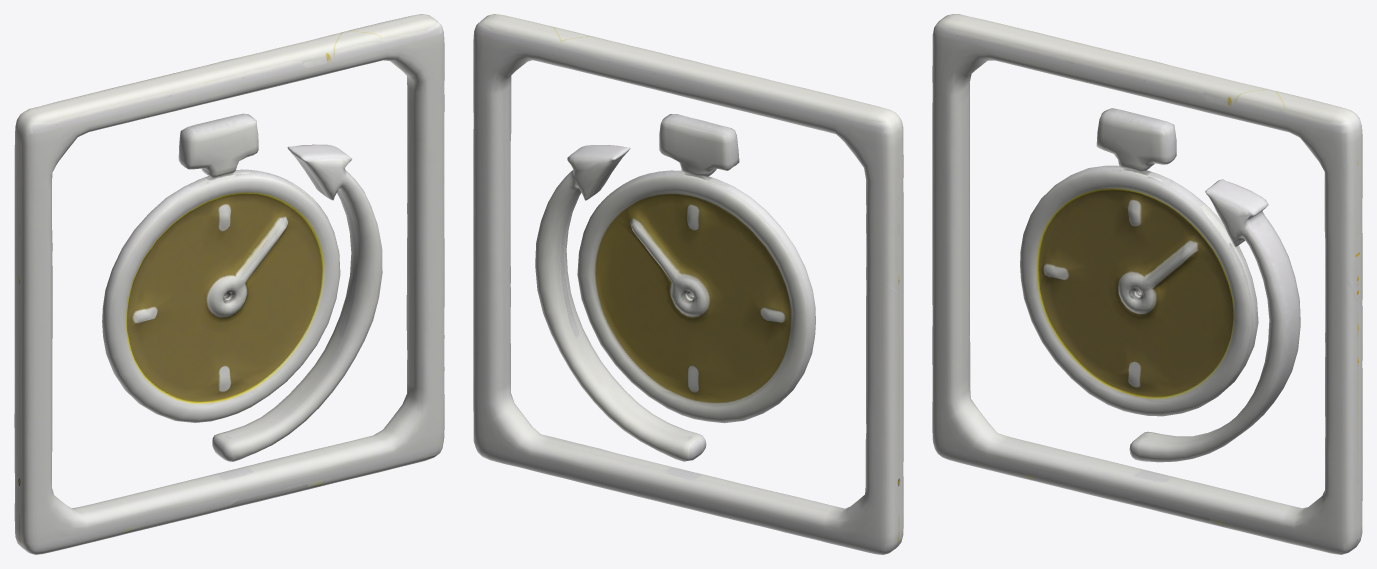
The model's file is Timer_Reset_Icon_0926201325_texture.fbx.
3 views of the same model, side by side, from view 1: azimuth 30°, elevation 25°; view 2: azimuth 150°, elevation 25°; view 3: azimuth 330°, elevation 25° (orthographic).
Parts seen in each view (by area): view 1: Mesh0; view 2: Mesh0; view 3: Mesh0.
Part boxes in pixels (x1=…): Mesh0: x1=14, y1=14, x2=444, y2=554; Mesh0: x1=473, y1=14, x2=903, y2=554; Mesh0: x1=932, y1=14, x2=1362, y2=554.
Bounding box in the file's own units: 191 × 191 × 16.4.
Materials: 1 (1 with a texture image).
